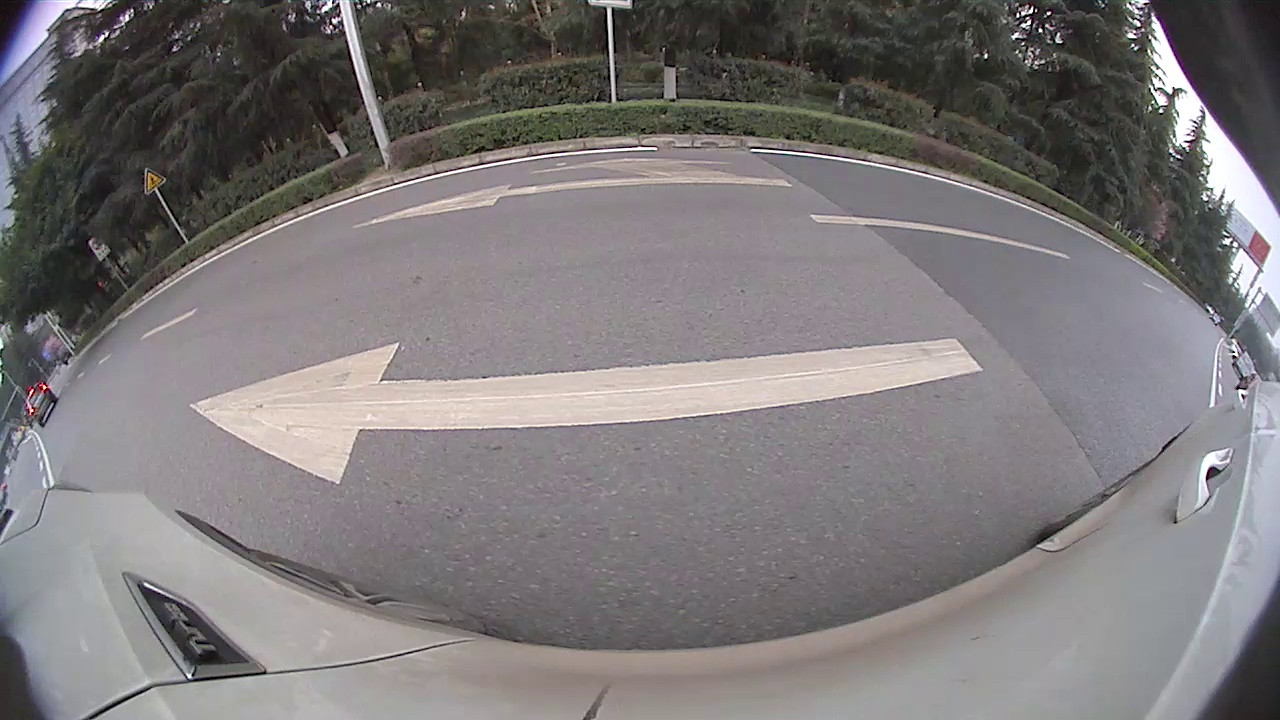car: (23, 381, 60, 429), (1232, 347, 1257, 385)
